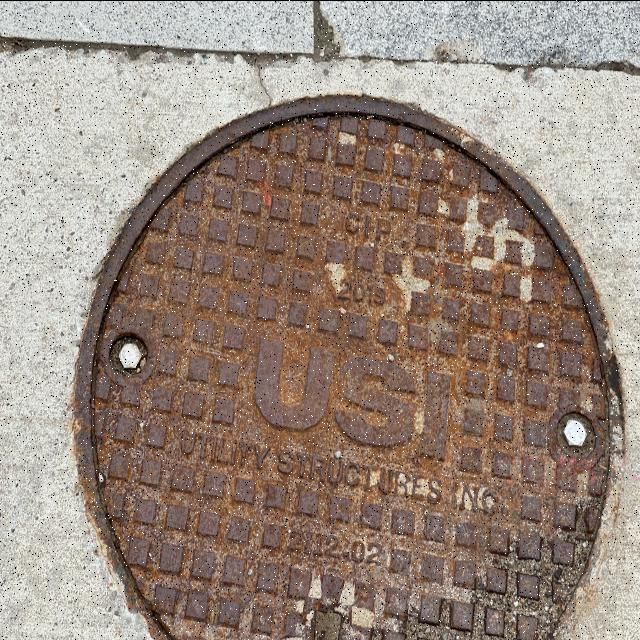Manhole: (71, 91, 617, 639)
